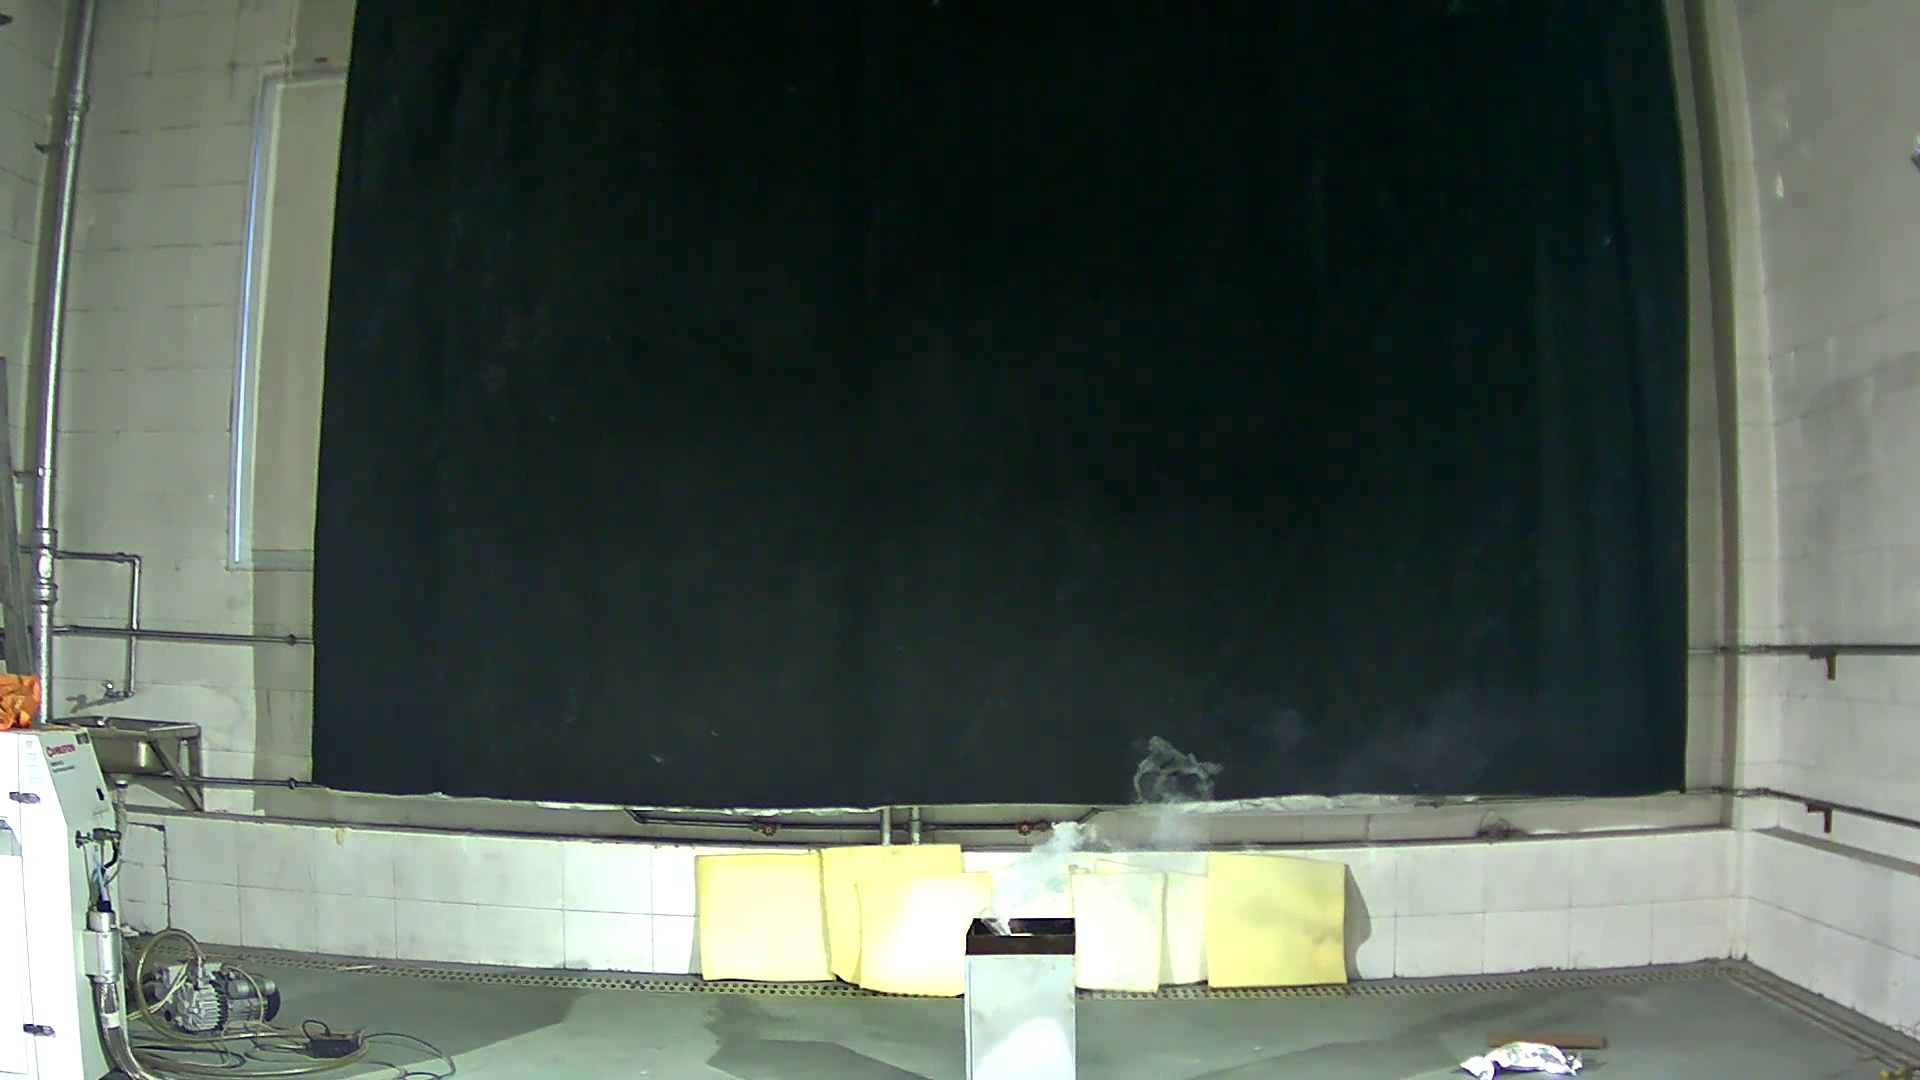smoke: (981, 703, 1222, 942)
